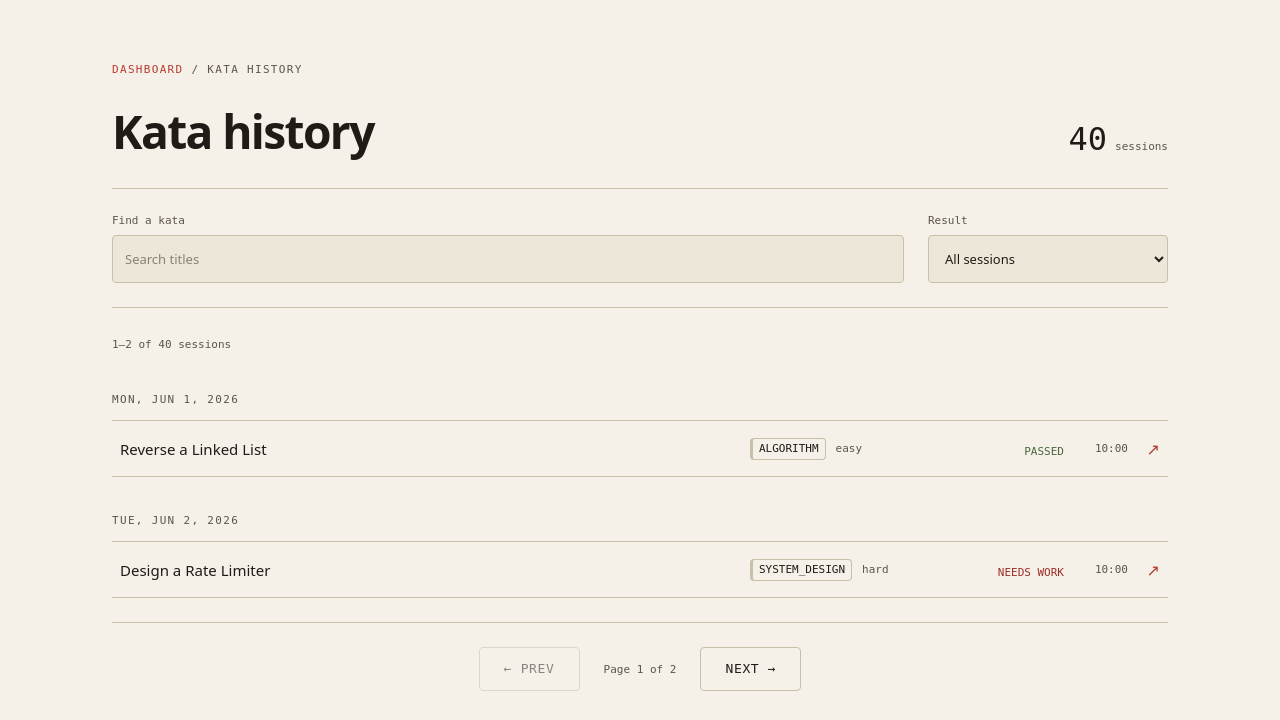
Test: HistoryPage › says so when the next page fails, keeps the rows and retries that page
Check: the text "Reverse a Linked List" is shown, box [120,439,267,459]
Click the button "Next →" at (751, 669), box [700,647,801,691]
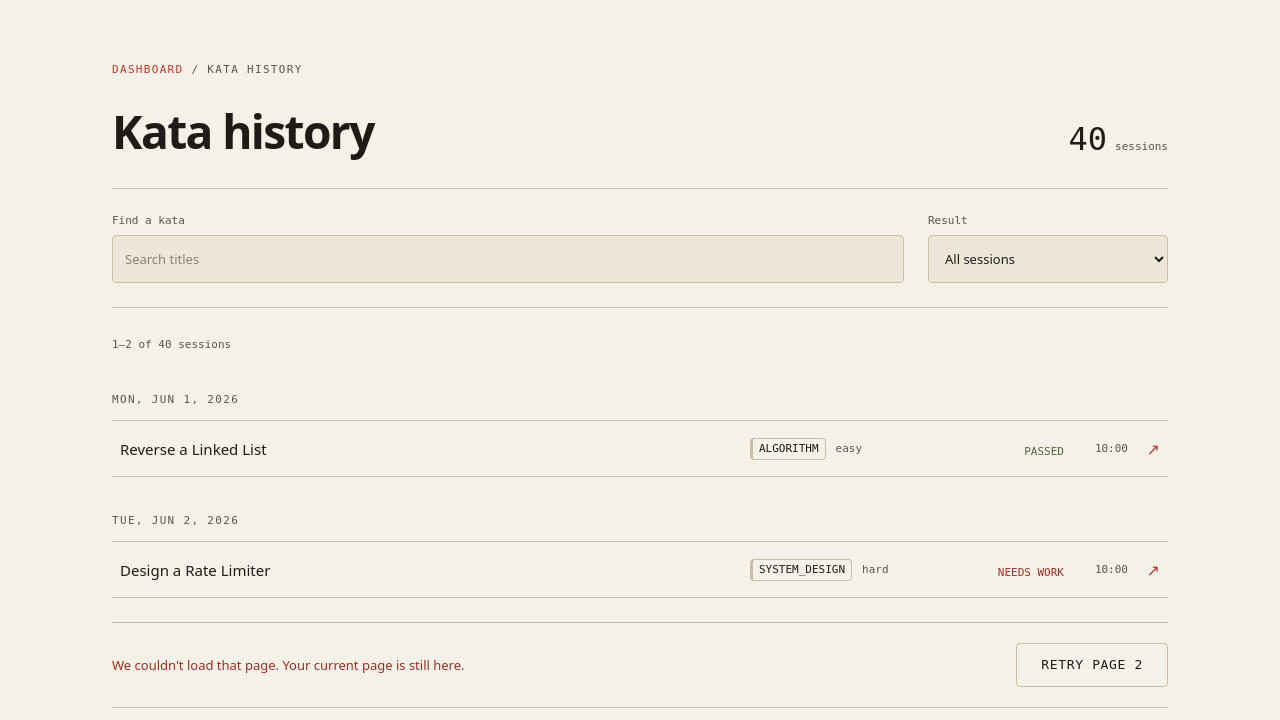
Check: the text "Reverse a Linked List" is shown, box [120,439,267,459]
Check: the message "We couldn't load that page. Your current page is still here. Retry page 2" is shown, box [112,622,1168,707]
Click the button "Retry page 2" at (1092, 665), box [1016,643,1168,687]
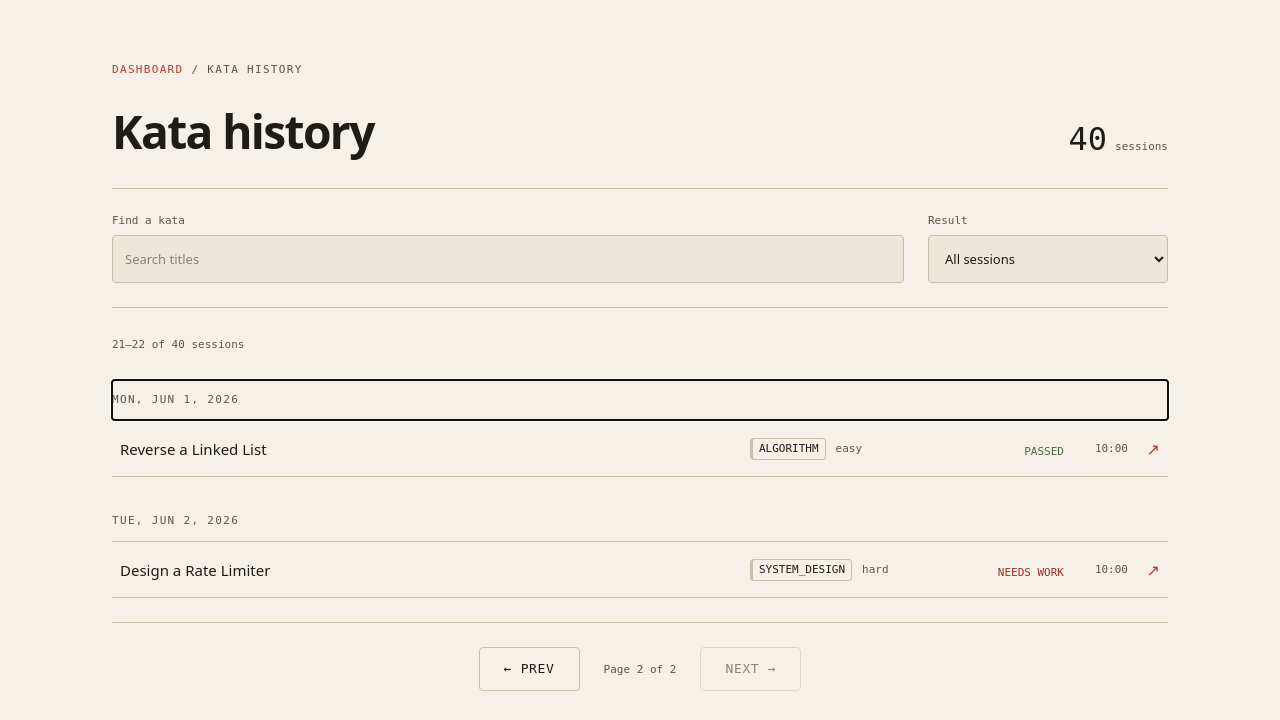
Check: the text "Page 2 of 2" is shown, box [604,661,676,678]
